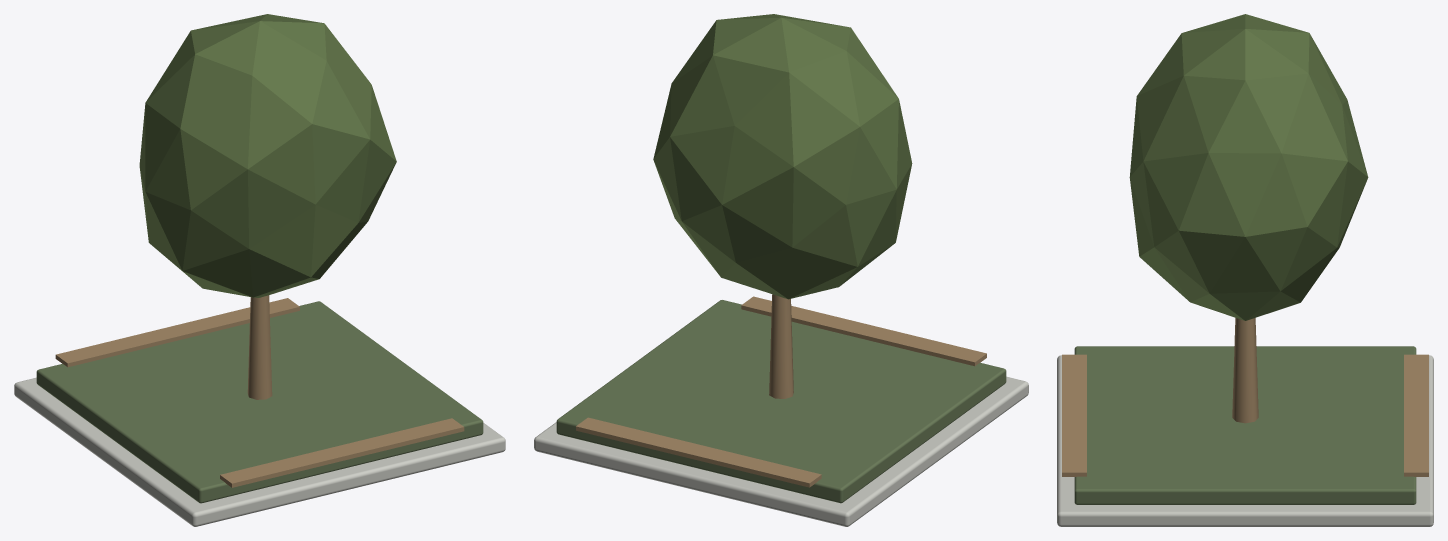
File: landscaped-planter.glb
The picture shows the model from 3 angles, left to right: view 1: azimuth 30°, elevation 25°; view 2: azimuth 150°, elevation 25°; view 3: azimuth 270°, elevation 25°; orthographic projection. The views are drawn at different scales.
Visible parts, largest first — view 1: landscaped-planter_foliage-olive, landscaped-planter_turf, landscaped-planter_light-precast-concrete, landscaped-planter_wood-deck; view 2: landscaped-planter_foliage-olive, landscaped-planter_turf, landscaped-planter_light-precast-concrete, landscaped-planter_wood-deck; view 3: landscaped-planter_foliage-olive, landscaped-planter_turf, landscaped-planter_light-precast-concrete, landscaped-planter_wood-deck.
Boxes of the visible parts, x1,y1,x2,y2 form: landscaped-planter_foliage-olive: (139,14,396,297); landscaped-planter_turf: (36,301,483,503); landscaped-planter_light-precast-concrete: (14,377,505,526); landscaped-planter_wood-deck: (55,295,464,487); landscaped-planter_foliage-olive: (653,14,912,299); landscaped-planter_turf: (556,300,1006,503); landscaped-planter_light-precast-concrete: (534,376,1028,526); landscaped-planter_wood-deck: (576,294,986,487); landscaped-planter_foliage-olive: (1129,14,1368,320); landscaped-planter_turf: (1074,346,1416,504); landscaped-planter_light-precast-concrete: (1057,355,1433,526); landscaped-planter_wood-deck: (1062,318,1428,476).
Bounding box in the file's own units: 5.4 × 6.64 × 5.4.
